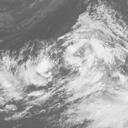cyclone: (41, 44, 104, 92)
